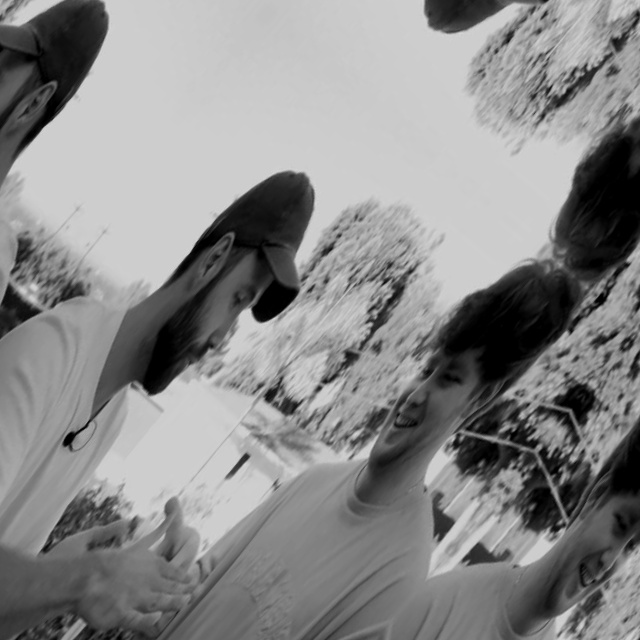Paper: (69, 499, 230, 640)
Scissors: (136, 492, 219, 576)
